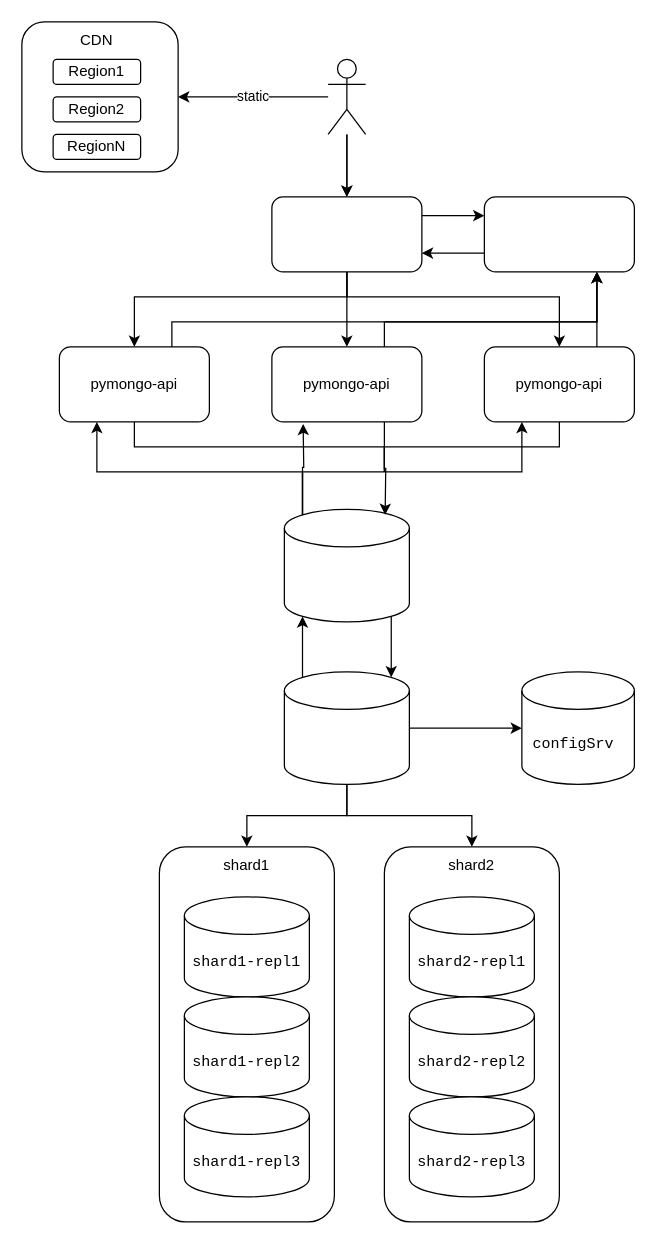
The diagram is 656 pixels wide and 1244 high, and some of its shapes have lost their labels. Here are the shapes that lost their labels. From the top down, the centre of each, then its label:
At [346,234]: "Gateway".
At [558,234]: "Consul Service Discovery".
At [346,565]: "redis".
At [346,727]: "mongos_router".
